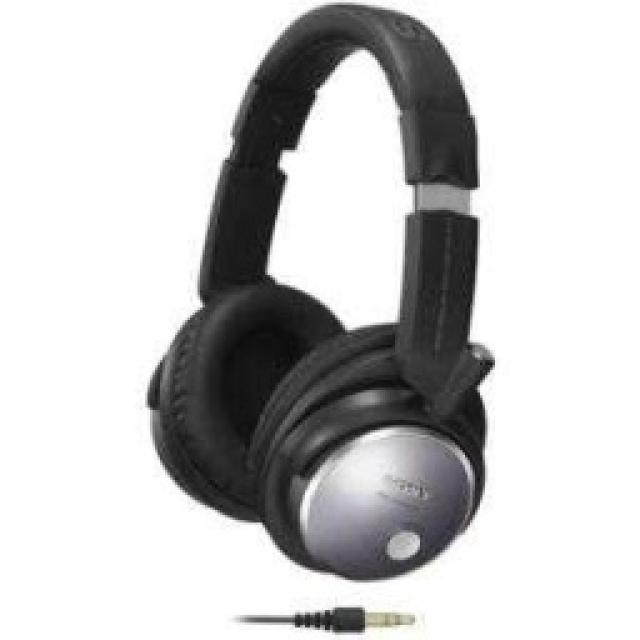headphones: (145, 0, 495, 580)
